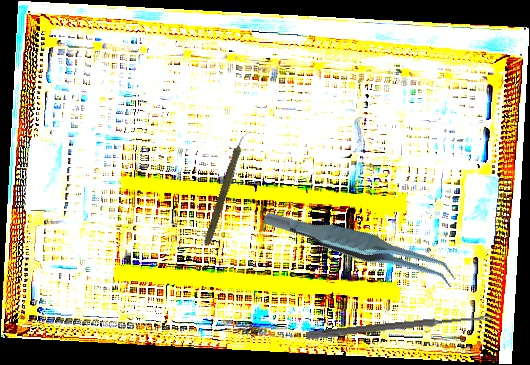Handpiece: (201, 126, 253, 248)
Surgical Spoon: (306, 312, 493, 341)
Tissue Forceps: (262, 173, 460, 321)
